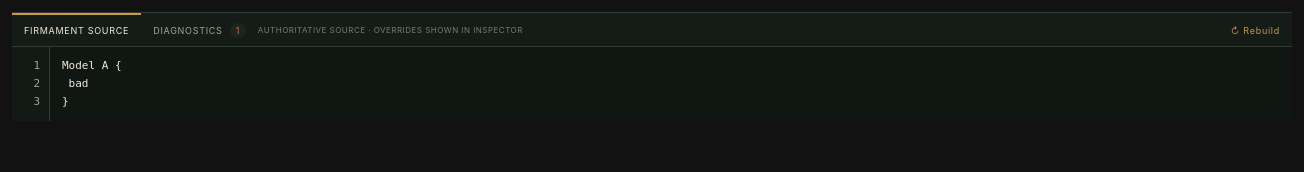
Test: source and diagnostics › returns a located diagnostic to the source editor
Click the button "DIAGNOSTICS 1" at (200, 30), box [141,13,258,46]
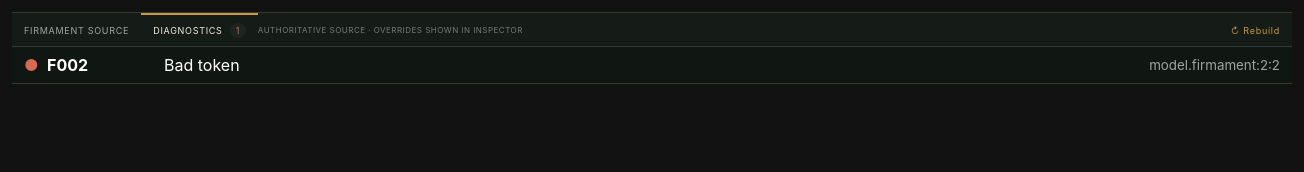
Click the text "F002" at (68, 65), box [47,55,88,75]
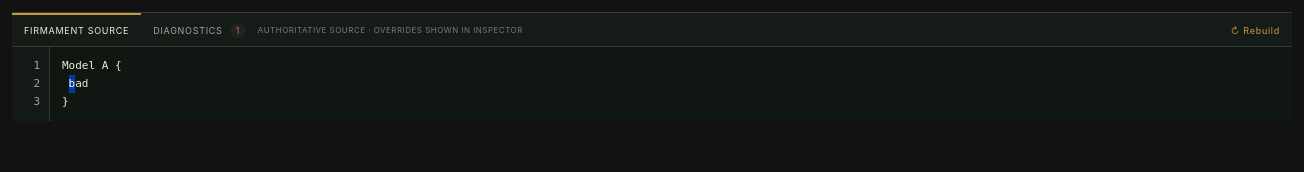
Result: the text box named "Firmament source" is shown at [50,47,1292,121]
